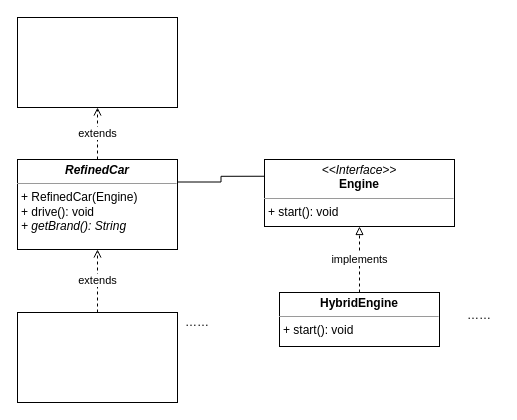
Image size: 517x420. Some labels were removed from this diagram. Each missing label, with the box of its shape:
BossCar + BossCar(Engine) + getBrand(): String: (16, 312, 178, 402)
Car # engine: Engine + Car(Engine) + drive(): void: (16, 16, 178, 108)
